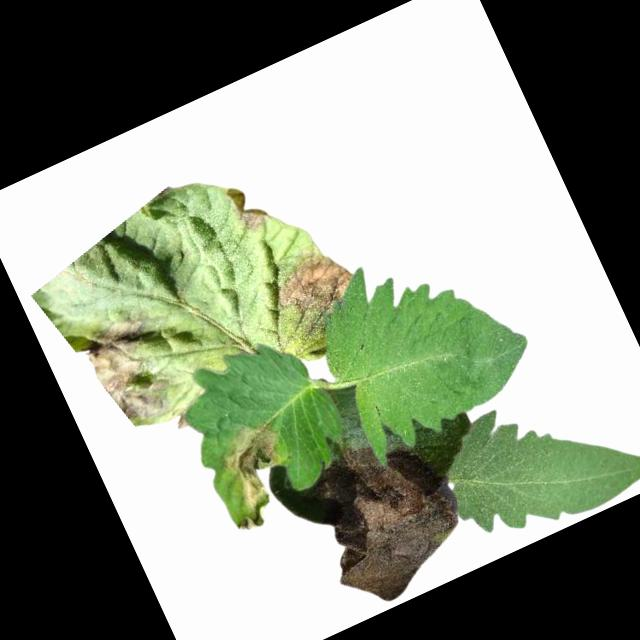Late_blight: (290, 416, 482, 616), (76, 304, 194, 439), (198, 411, 312, 538), (265, 236, 369, 335), (226, 181, 270, 235), (173, 412, 191, 431)
